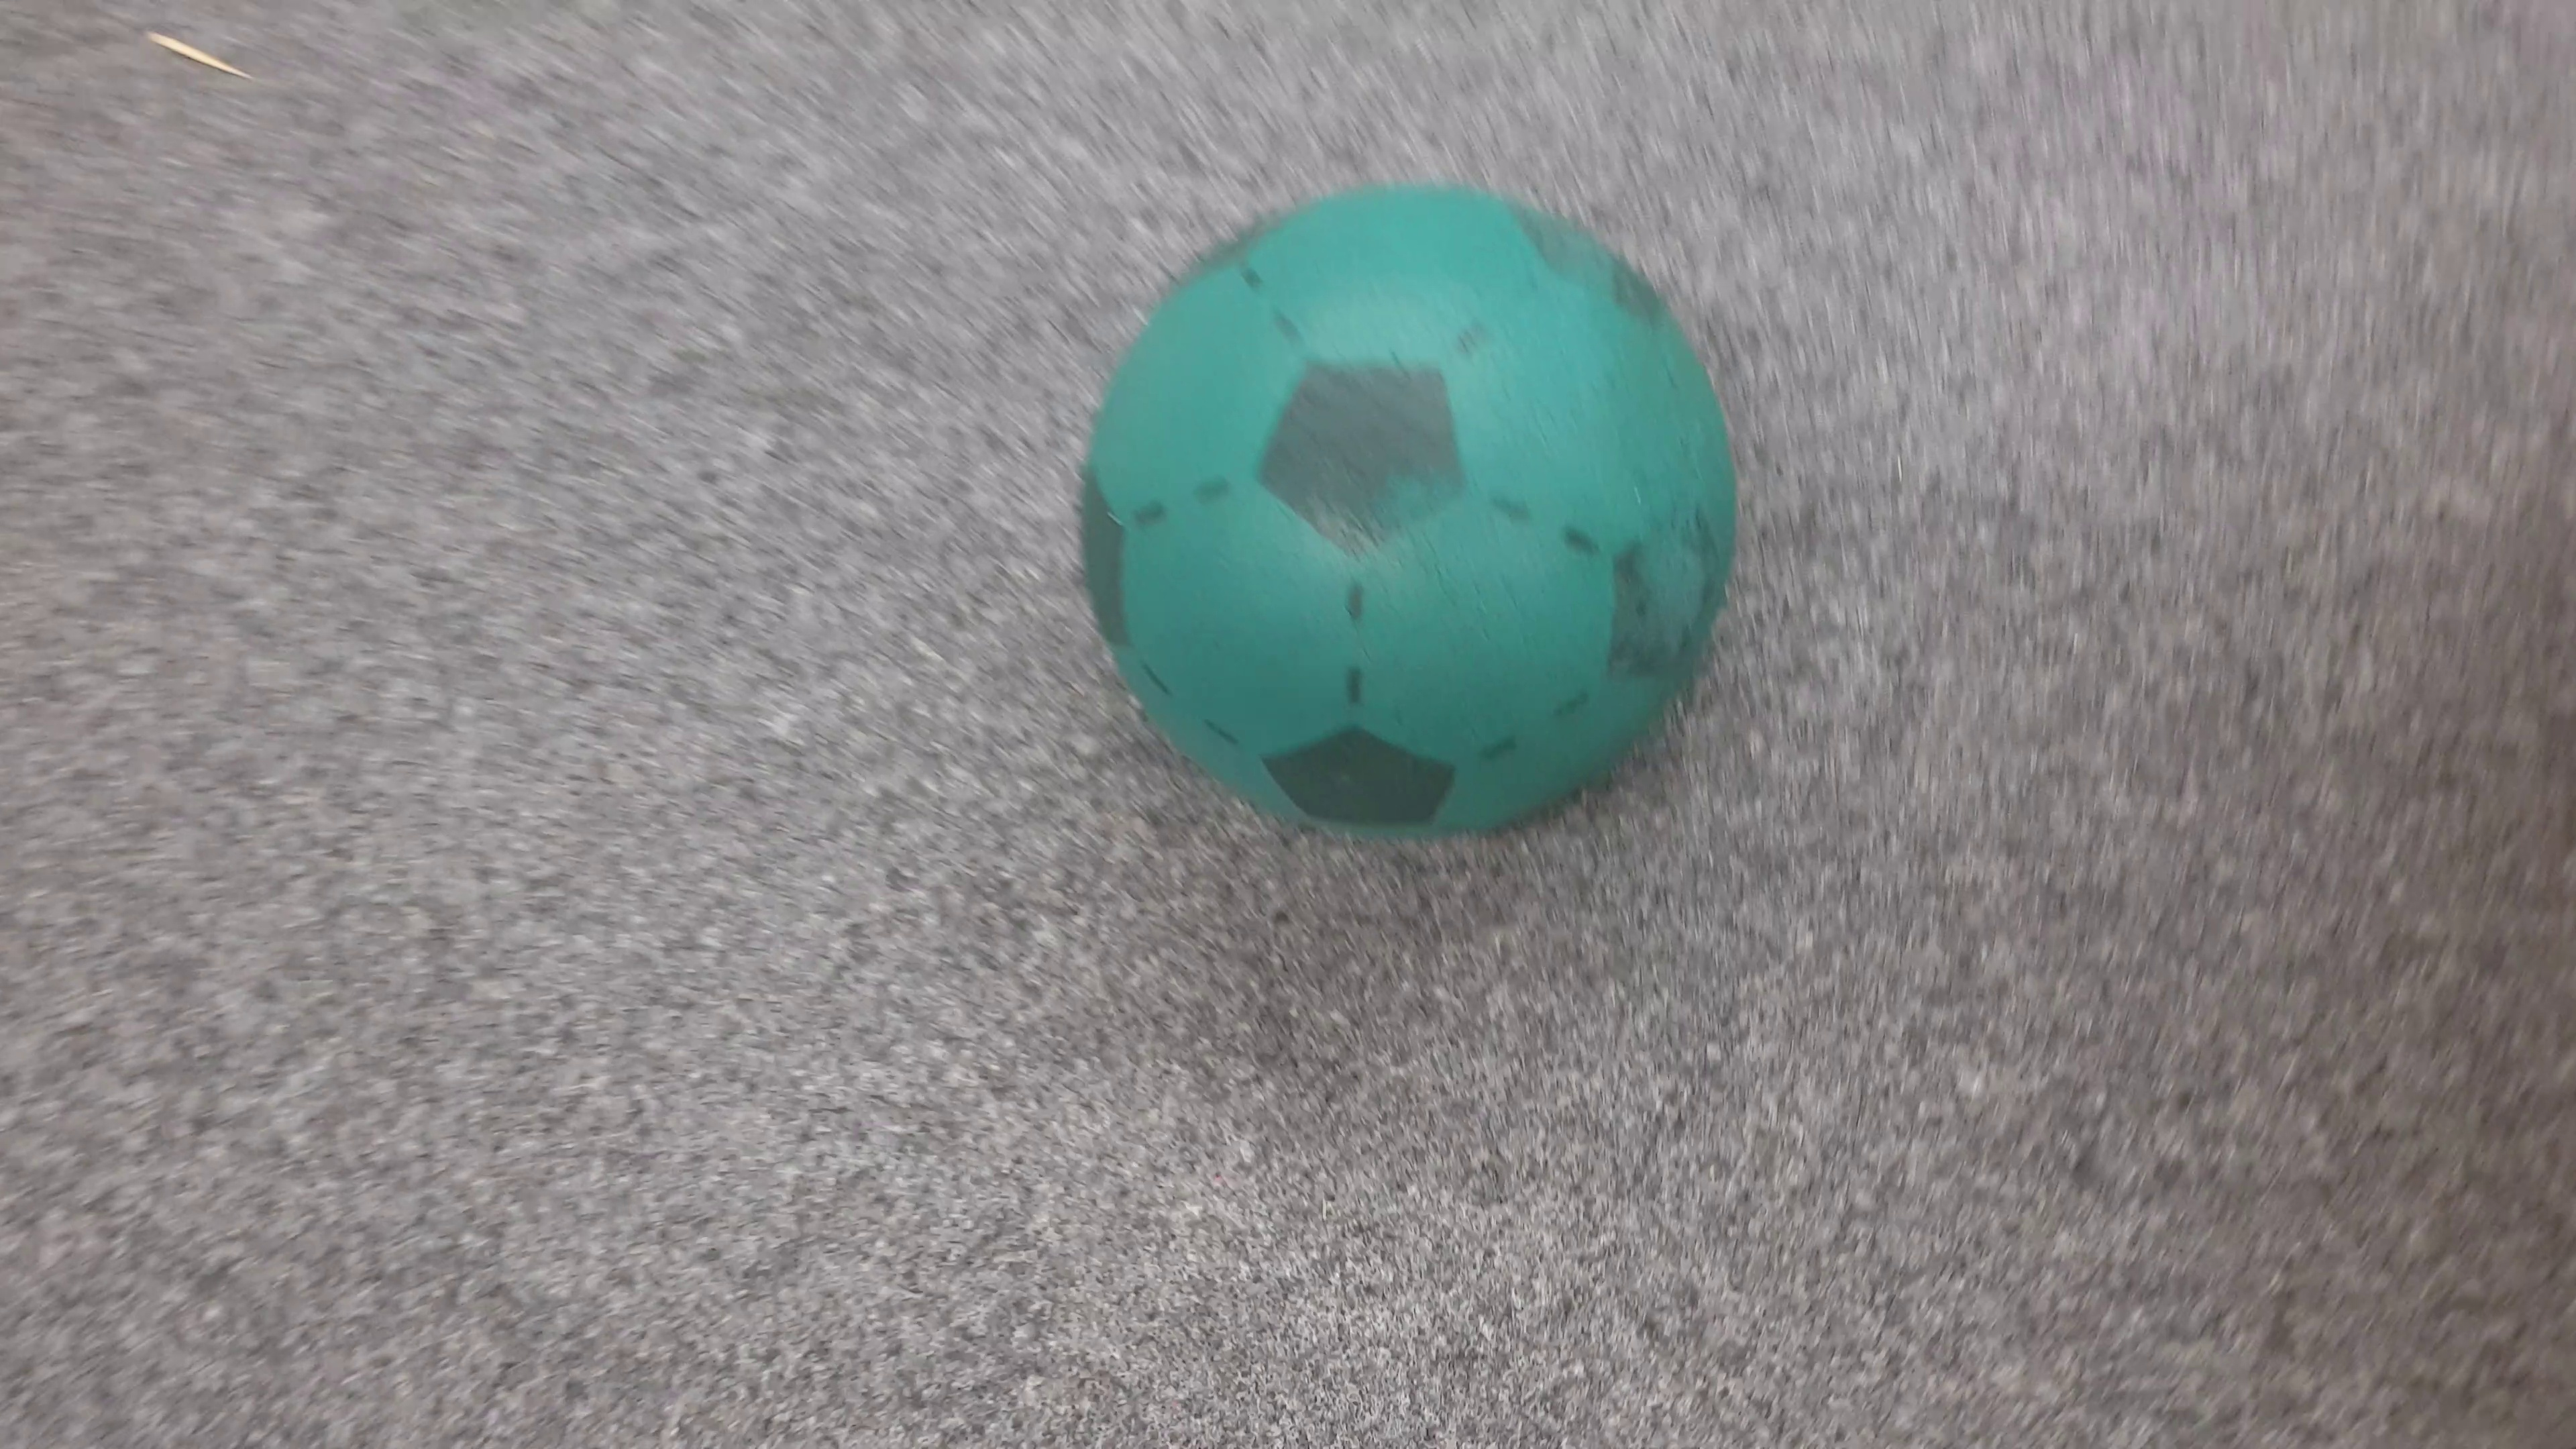kick: (1079, 182, 1746, 828)
